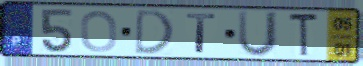5: (39, 7, 75, 54)
D: (132, 8, 176, 56)
O: (79, 9, 119, 54)
T: (287, 11, 321, 60), (184, 12, 219, 55)
U: (235, 9, 281, 59)
